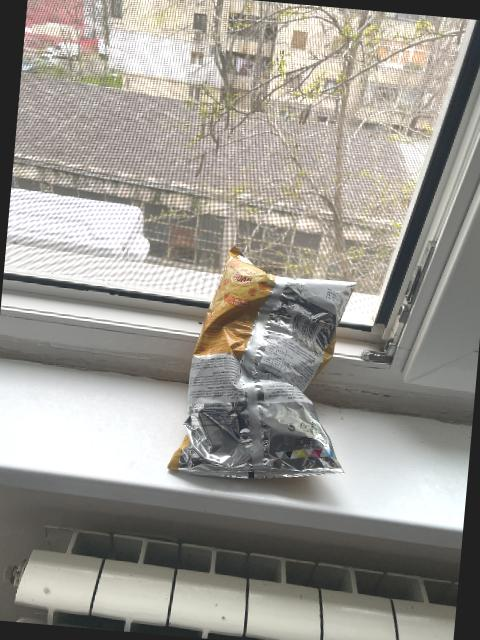Chio Hula Hoops Cheese 70g: (167, 250, 364, 480)
